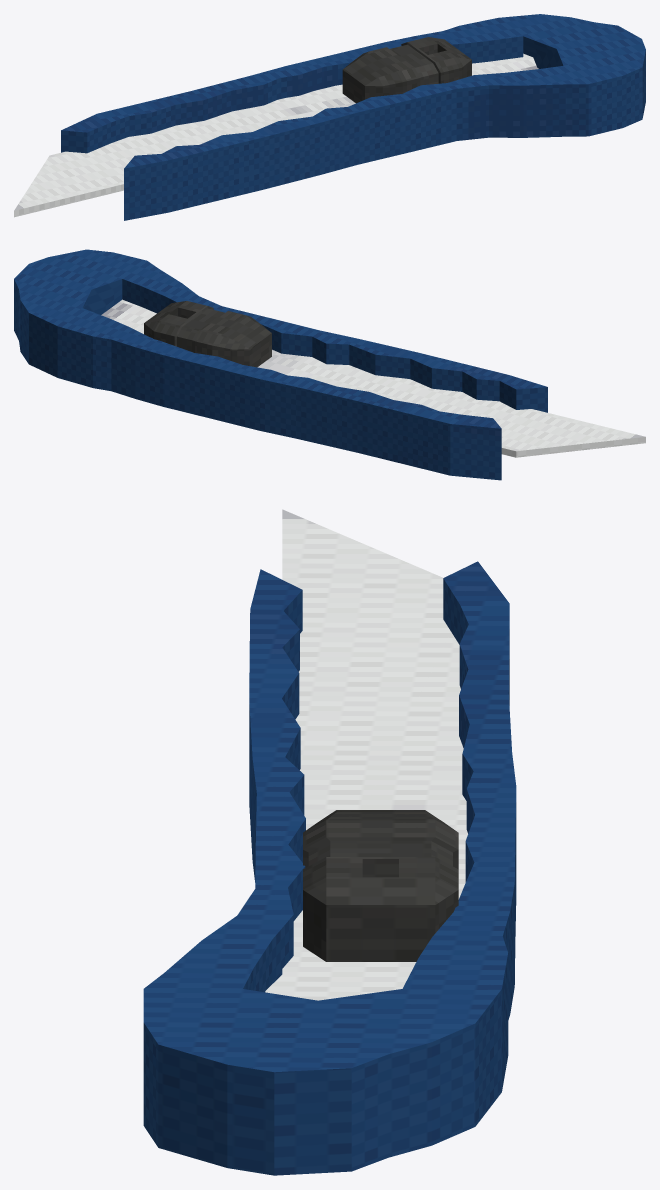
File: Taglierino.fbx
The picture shows the model from 3 angles, top to bottom: view 1: azimuth 30°, elevation 25°; view 2: azimuth 150°, elevation 25°; view 3: azimuth 270°, elevation 25°; orthographic projection. The views are drawn at different scales.
Parts seen in each view (by area): view 1: Cube.017; view 2: Cube.017; view 3: Cube.017.
Part boxes in pixels (x1,y1,x2,y2): Cube.017: (14,14,645,220); Cube.017: (14,249,645,480); Cube.017: (143,509,516,1175).
Size of the model in its own units: 0.1037 by 0.0105 by 0.0271.
Materials: 3 (3 with a texture image).
